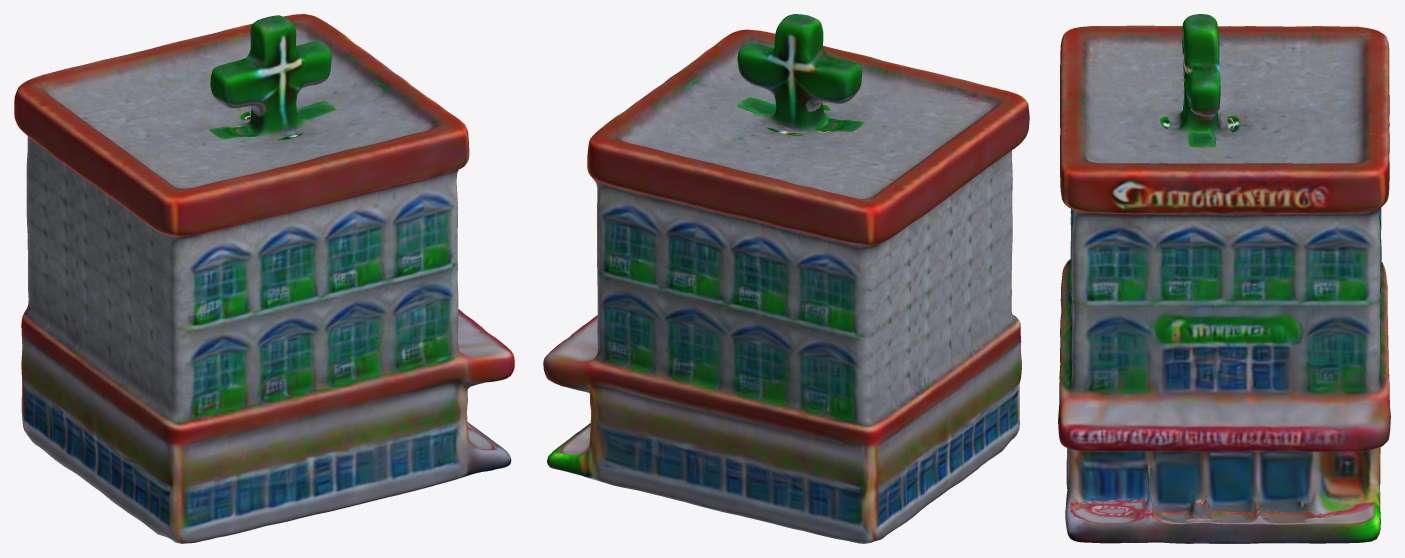
Rendered from pharmacy4.glb.
3 views of the same model, side by side, from view 1: azimuth 30°, elevation 25°; view 2: azimuth 150°, elevation 25°; view 3: azimuth 270°, elevation 25° (orthographic). The views are drawn at different scales.
Parts seen in each view (by area): view 1: mesh; view 2: mesh; view 3: mesh.
Boxes of the visible parts, x1,y1,x2,y2 form: mesh: [14, 14, 514, 543]; mesh: [543, 14, 1029, 543]; mesh: [1058, 14, 1390, 543].
Bounding box in the file's own units: 0.8349 × 0.9986 × 0.6848.
Materials: 1 (1 with a texture image).
